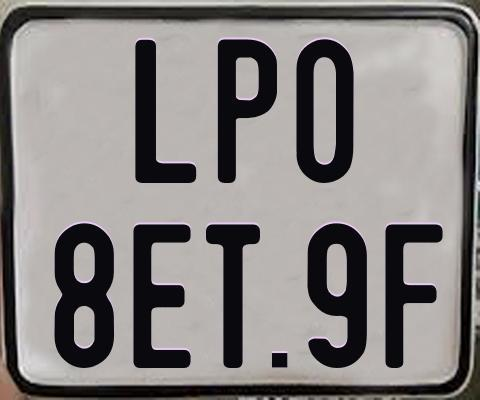0: (294, 39, 352, 186)
8: (54, 221, 117, 366)
9: (304, 220, 367, 365)
E: (132, 223, 191, 373)
F: (383, 224, 442, 371)
L: (134, 39, 199, 182)
P: (215, 39, 277, 183)
T: (203, 224, 263, 370)
